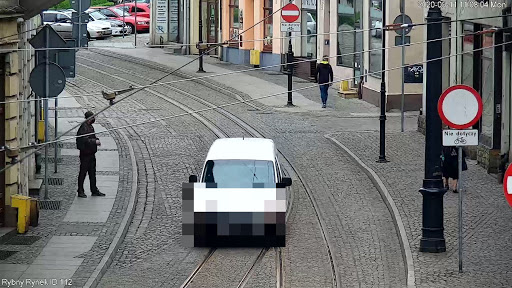no_entry_sign: (440, 85, 480, 128)
